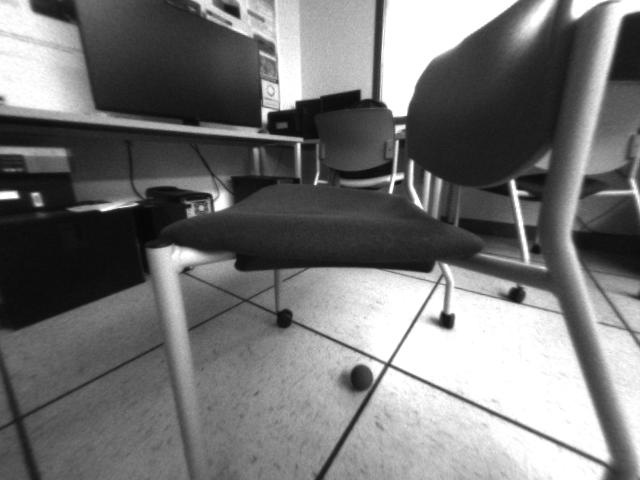dogtoy: (346, 359, 381, 394)
